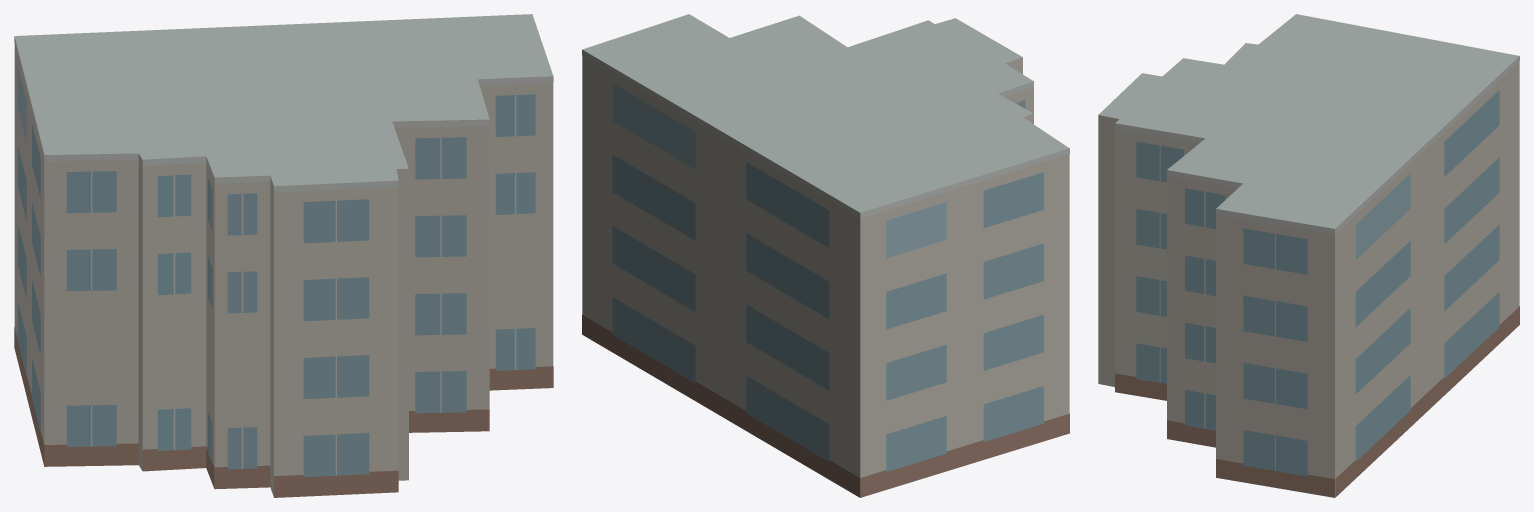
File: survey-upis-32682180.glb
The picture shows the model from 3 angles, left to right: view 1: azimuth 30°, elevation 25°; view 2: azimuth 150°, elevation 25°; view 3: azimuth 270°, elevation 25°; orthographic projection. The views are drawn at different scales.
Parts seen in each view (by area): view 1: survey-upis-32682180.tmp; view 2: survey-upis-32682180.tmp; view 3: survey-upis-32682180.tmp.
Boxes of the visible parts, x1,y1,x2,y2 form: survey-upis-32682180.tmp: (14, 14, 553, 497); survey-upis-32682180.tmp: (582, 14, 1069, 497); survey-upis-32682180.tmp: (1098, 14, 1519, 497).
Bounding box in the file's own units: 20.92 × 12.2 × 17.34.
